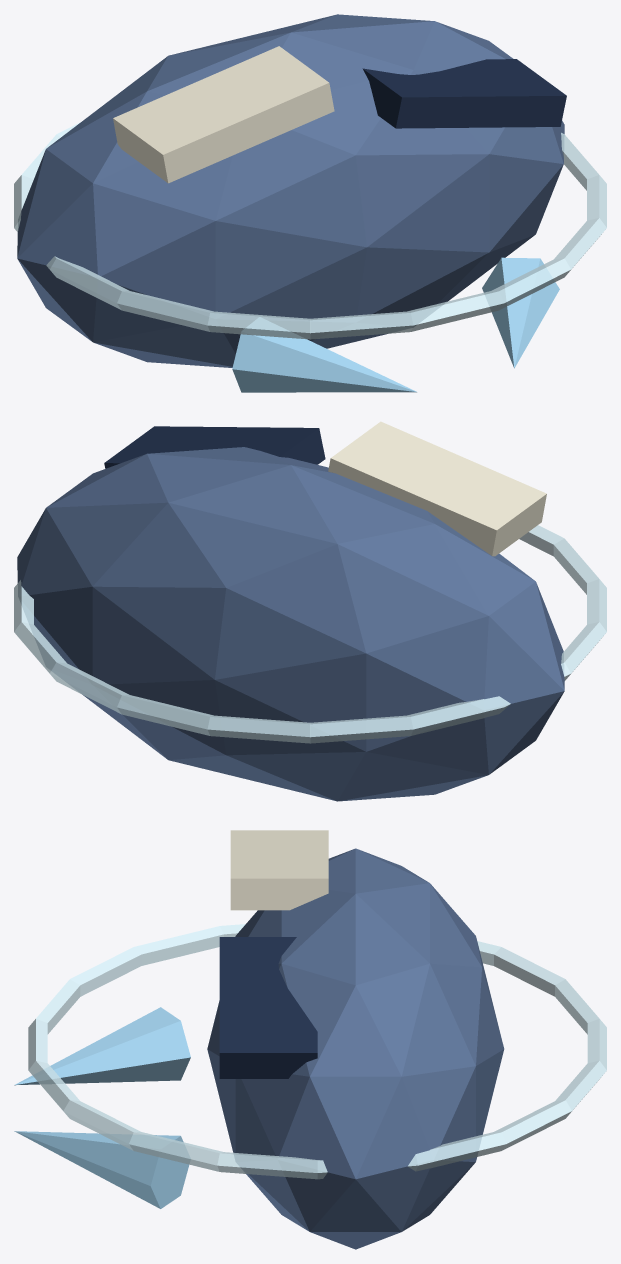
File: 02_monster_skin_attachment.glb
The picture shows the model from 3 angles, top to bottom: view 1: azimuth 30°, elevation 25°; view 2: azimuth 150°, elevation 25°; view 3: azimuth 270°, elevation 25°; orthographic projection. The views are drawn at different scales.
Visible parts, largest first — view 1: skin_variant_body_proxy, armor_or_hide_patch_a, spawn_uniqueness_ring, armor_or_hide_patch_b, variant_horn_l, variant_horn_r; view 2: skin_variant_body_proxy, spawn_uniqueness_ring, armor_or_hide_patch_a, armor_or_hide_patch_b; view 3: skin_variant_body_proxy, spawn_uniqueness_ring, armor_or_hide_patch_b, armor_or_hide_patch_a, variant_horn_l, variant_horn_r.
Part boxes in pixels (box(x1,y1,x2,y2)): skin_variant_body_proxy: box(17, 14, 564, 367); armor_or_hide_patch_a: box(113, 46, 334, 183); spawn_uniqueness_ring: box(14, 122, 606, 339); armor_or_hide_patch_b: box(362, 59, 566, 128); variant_horn_l: box(232, 318, 417, 392); variant_horn_r: box(482, 257, 559, 368); skin_variant_body_proxy: box(17, 447, 564, 801); spawn_uniqueness_ring: box(14, 525, 606, 743); armor_or_hide_patch_a: box(328, 421, 546, 556); armor_or_hide_patch_b: box(104, 426, 325, 468); skin_variant_body_proxy: box(207, 848, 504, 1249); spawn_uniqueness_ring: box(28, 924, 606, 1179); armor_or_hide_patch_b: box(219, 937, 317, 1078); armor_or_hide_patch_a: box(230, 830, 328, 910); variant_horn_l: box(14, 1007, 190, 1085); variant_horn_r: box(14, 1131, 189, 1208).
Bounding box in the file's own units: 1.13 × 0.6358 × 1.09.
